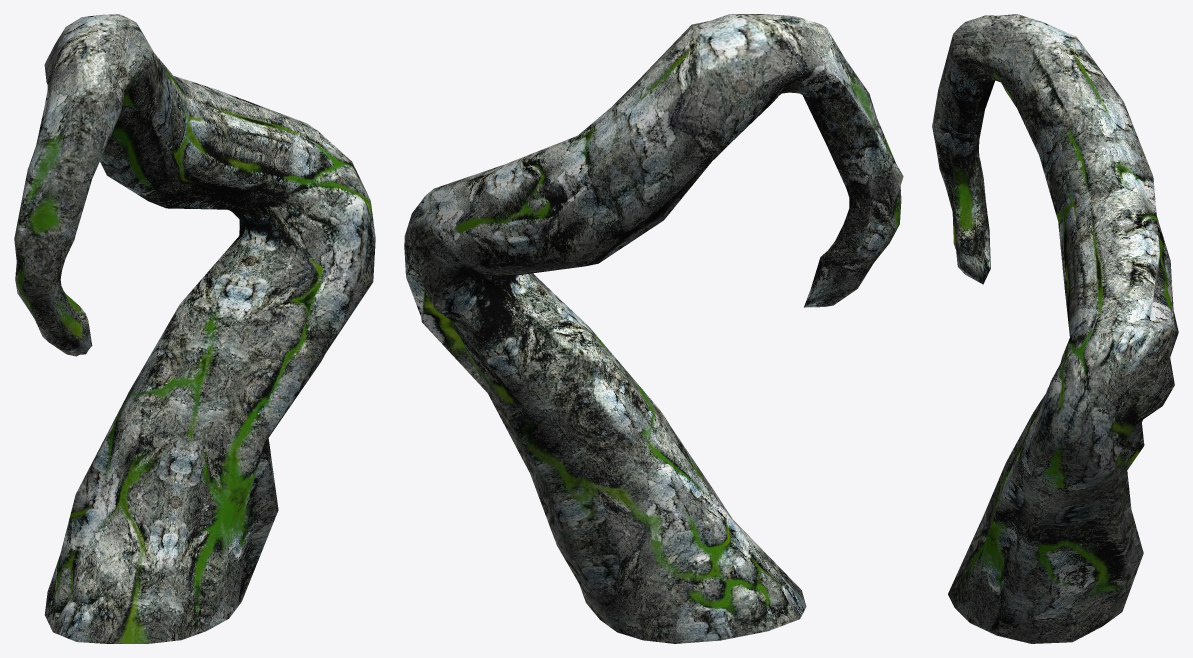
Rendered from weird_thing.glb.
The picture shows the model from 3 angles, left to right: view 1: azimuth 30°, elevation 25°; view 2: azimuth 150°, elevation 25°; view 3: azimuth 270°, elevation 25°; orthographic projection. The views are drawn at different scales.
Visible parts, largest first — view 1: BranchBake; view 2: BranchBake; view 3: BranchBake.
Part boxes in pixels (x1,y1,x2,y2): BranchBake: (14,14,375,643); BranchBake: (404,14,903,643); BranchBake: (932,14,1178,643).
Size of the model in its own units: 2.2 by 2.98 by 1.19.
Materials: 1 (1 with a texture image).
